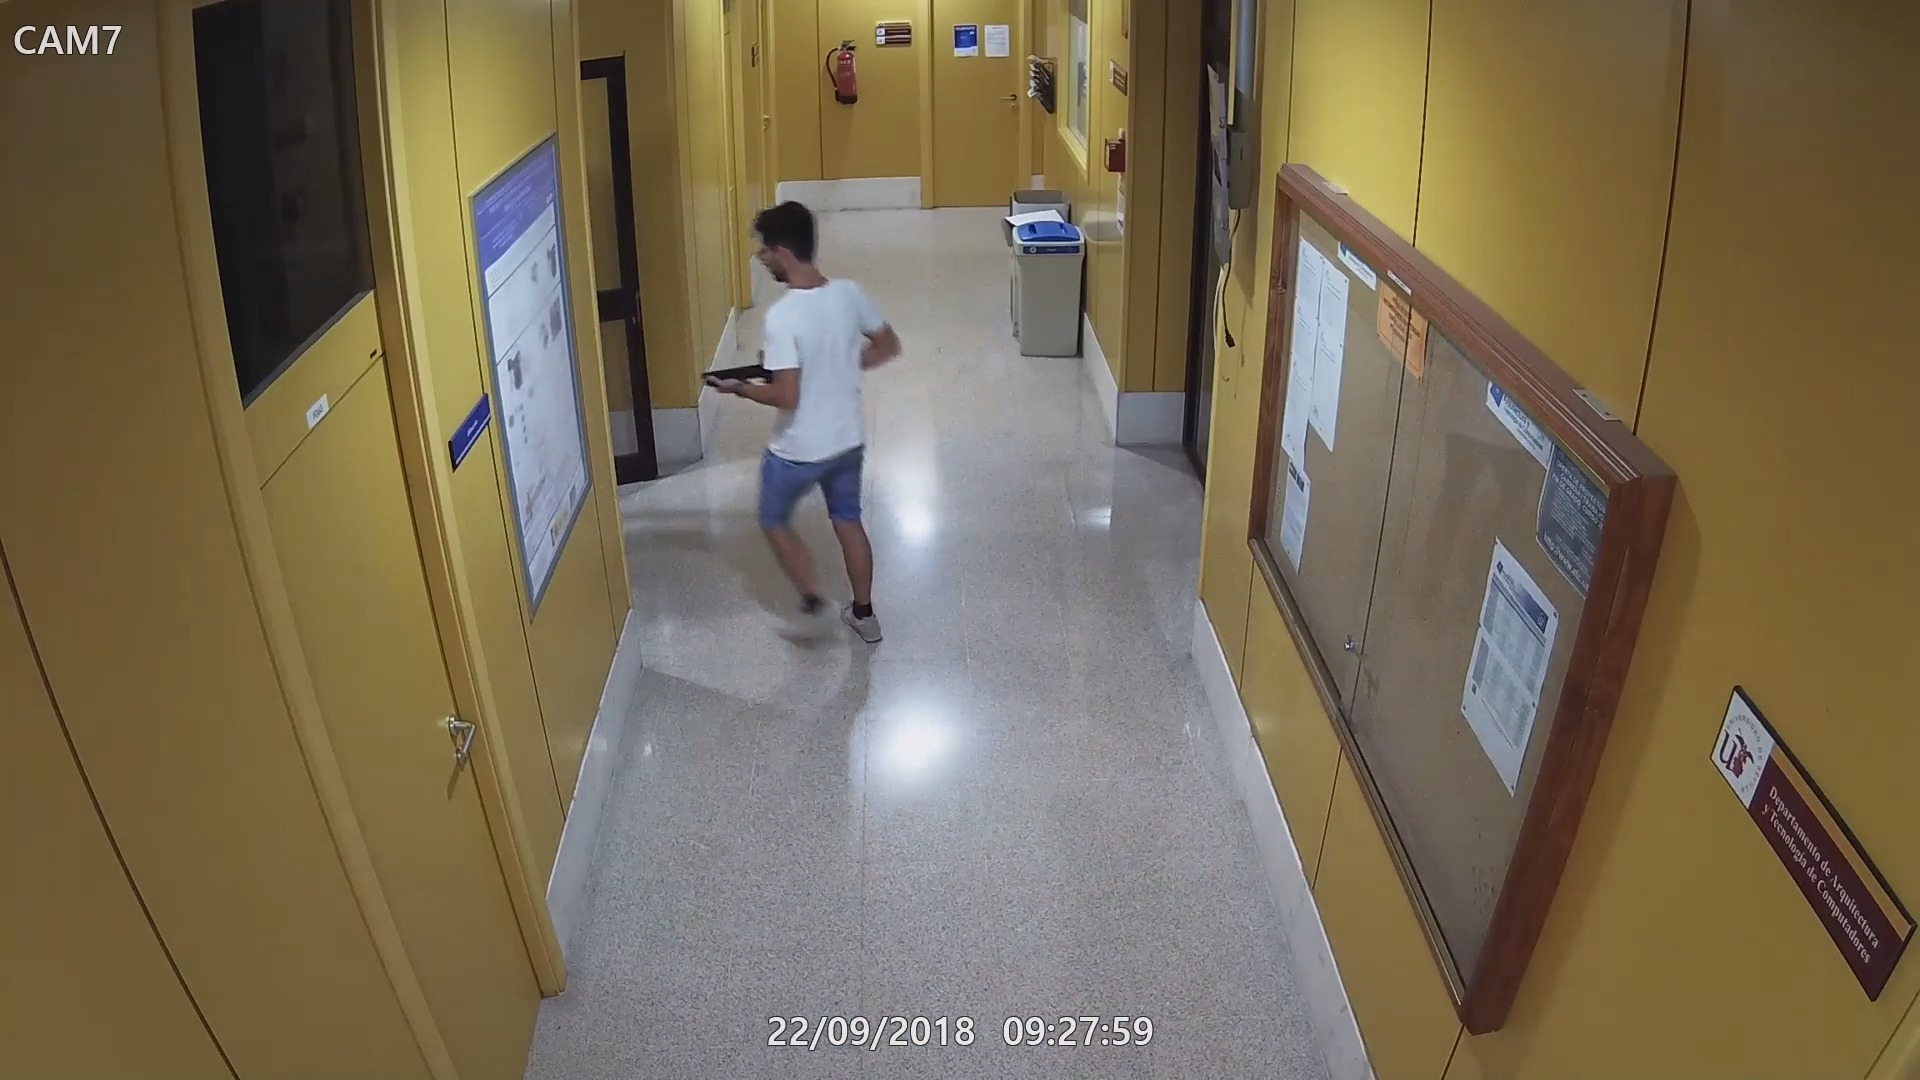Short_rifle: (698, 356, 767, 389)
